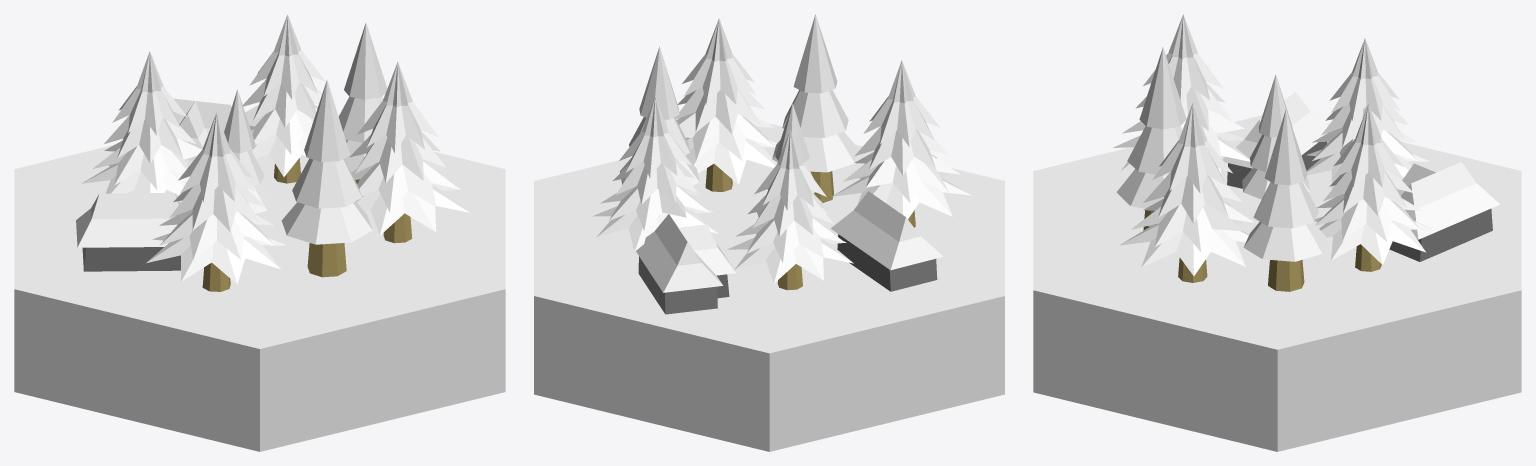
The model's file is Casas_Bosque_Pinos_Nieve_2.fbx.
3 renders of one model, left to right at view 1: azimuth 30°, elevation 25°; view 2: azimuth 150°, elevation 25°; view 3: azimuth 270°, elevation 25°, orthographic. The views are drawn at different scales.
Parts seen in each view (by area): view 1: Casas_Bosque_Pinos_Nieve_2; view 2: Casas_Bosque_Pinos_Nieve_2; view 3: Casas_Bosque_Pinos_Nieve_2.
Part boxes in pixels (x1,y1,x2,y2): Casas_Bosque_Pinos_Nieve_2: (14,14,505,451); Casas_Bosque_Pinos_Nieve_2: (534,14,1004,451); Casas_Bosque_Pinos_Nieve_2: (1033,14,1521,451).
Size of the model in its own units: 200 by 114 by 173.
